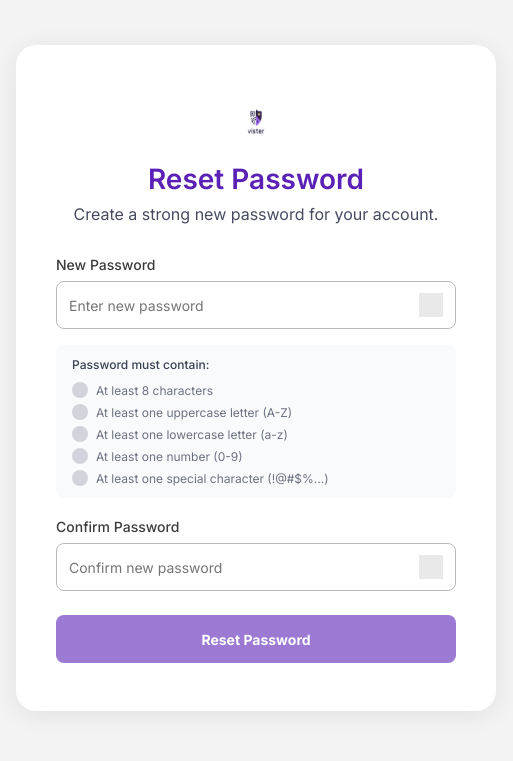
Test: ResetPassword › shows API error message on failure
Type "Strong@Pass1" into the password field with id "new-password". click: (240, 305)
box: [69,296,411,314]
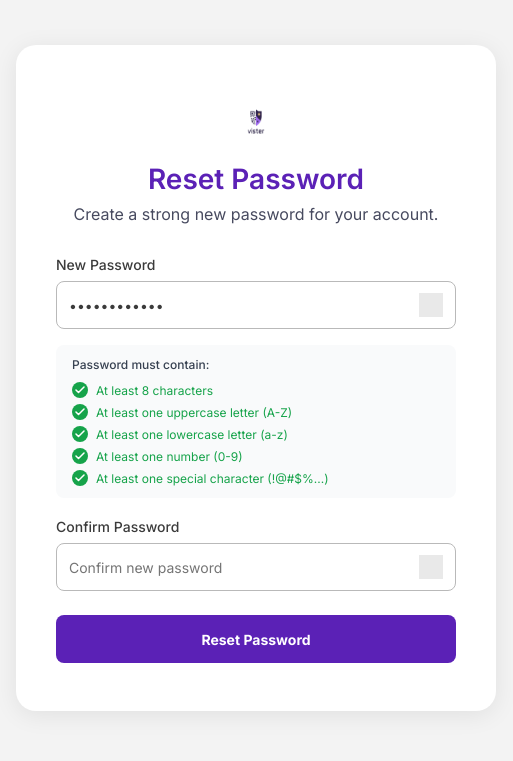
Type "Strong@Pass1" into the password field with id "confirm-password". click: (240, 567)
box: [69,558,411,576]
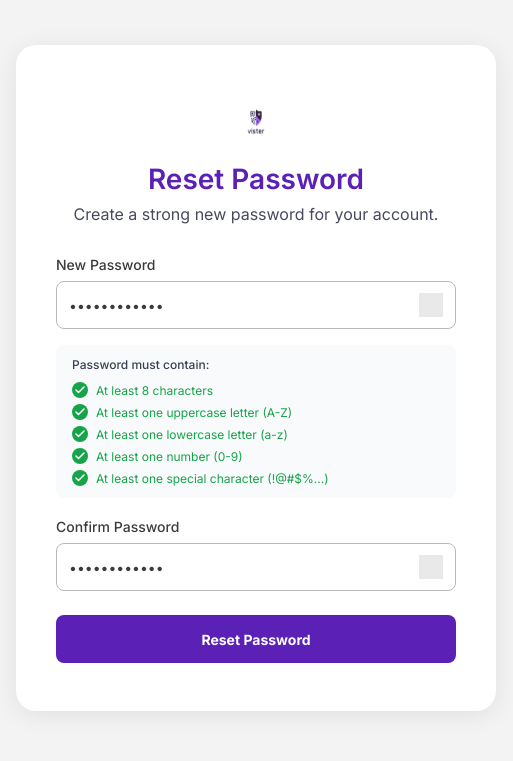
Submit the form named "reset password", box [56,256,456,663]
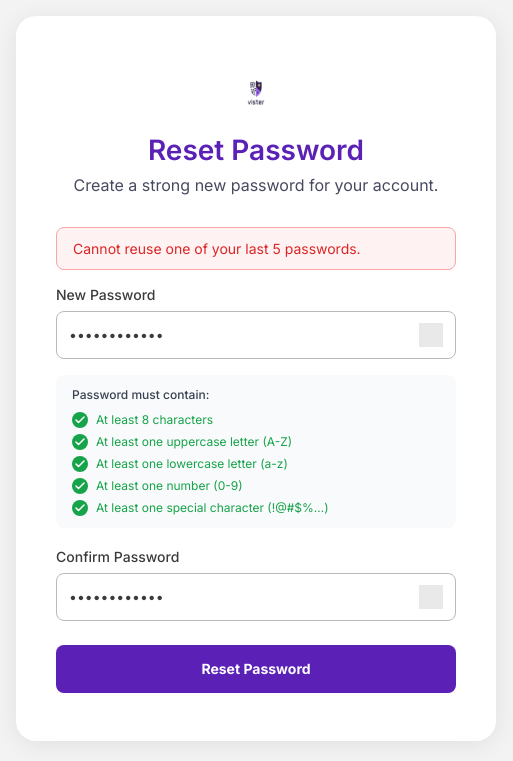
expect the text "Cannot reuse one of your last 5 passwords." is shown: met, box [56,226,456,270]
